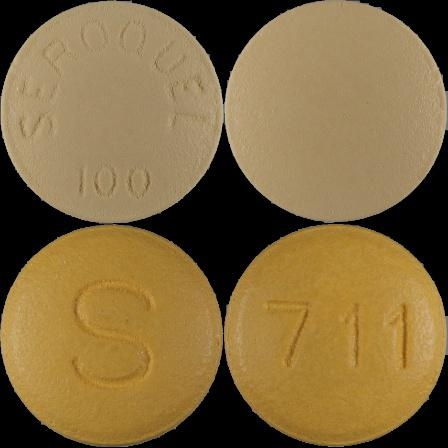63629-3291: (0, 0, 224, 224)
